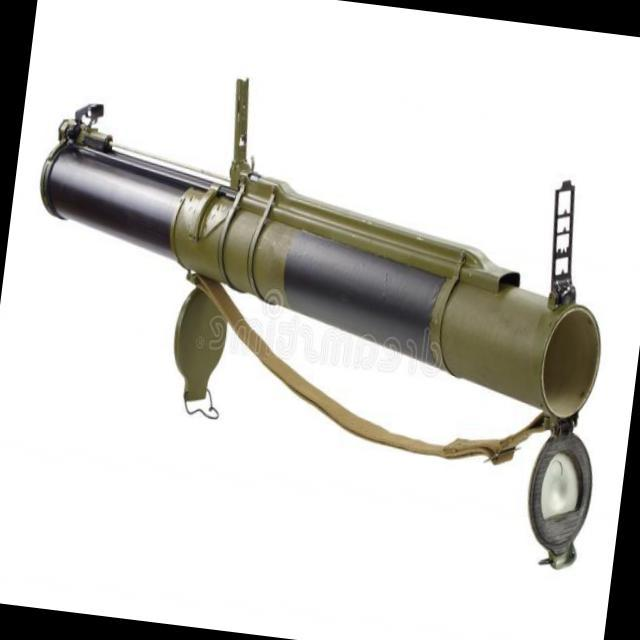rocket: (1, 61, 638, 576)
